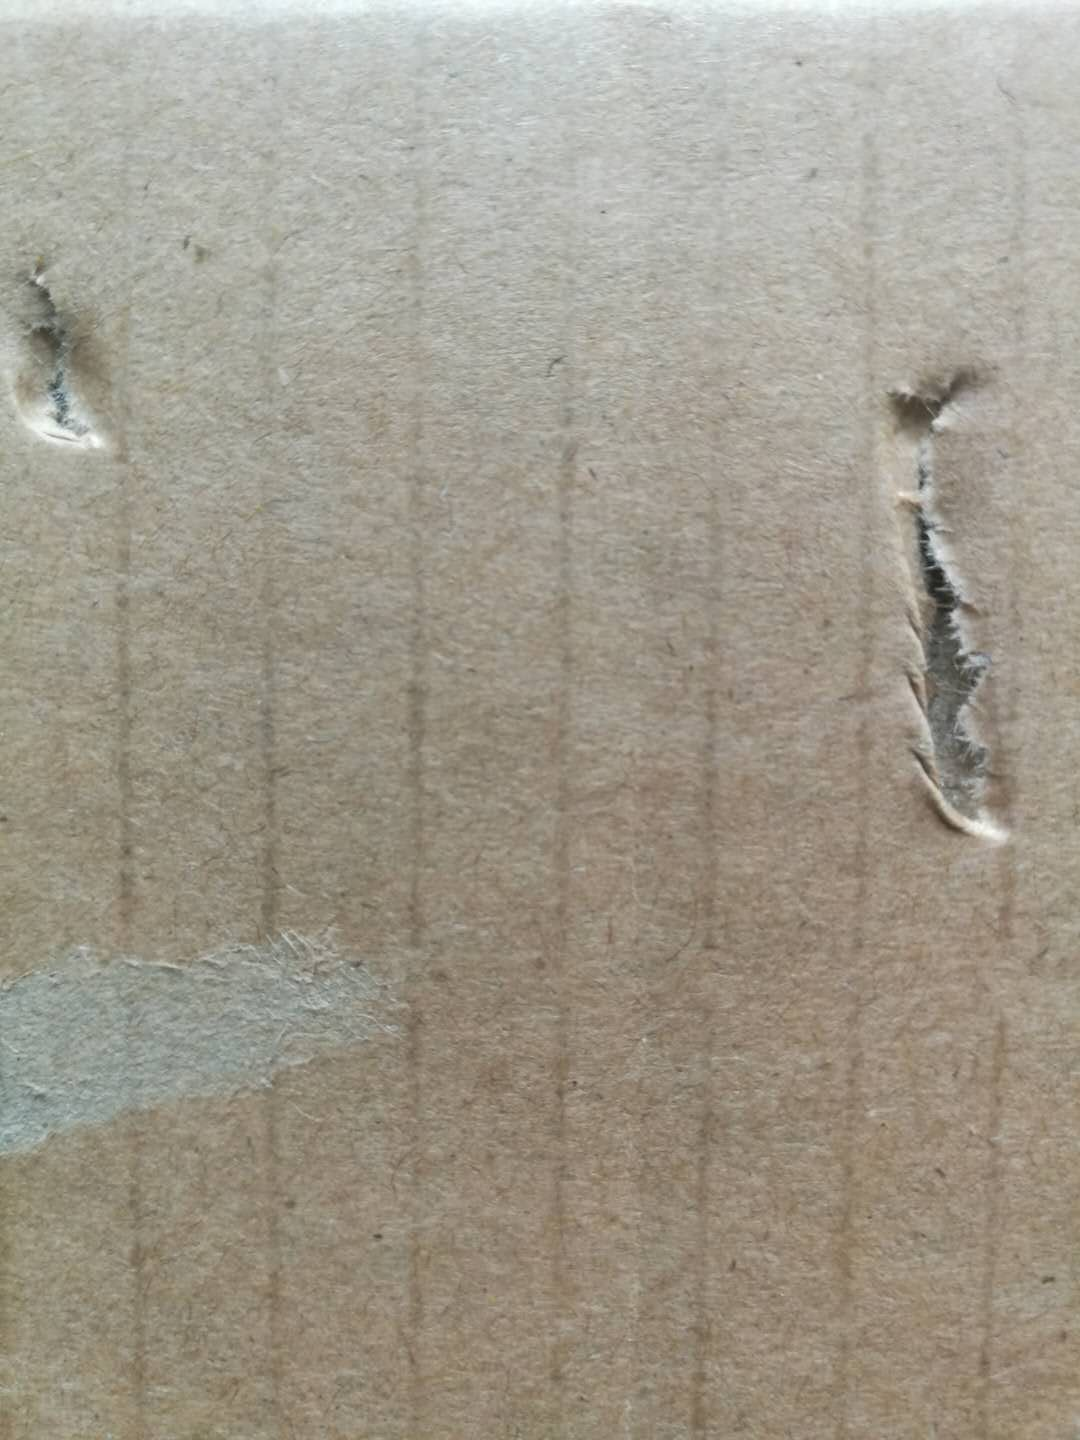defect: (817, 330, 1063, 903), (2, 904, 442, 1176), (1, 215, 152, 495)
